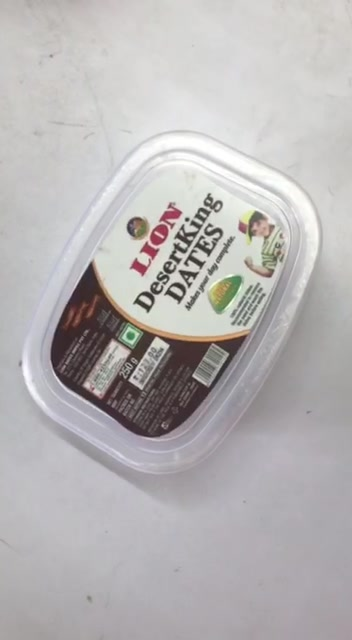Lion dates: (23, 133, 323, 477)
